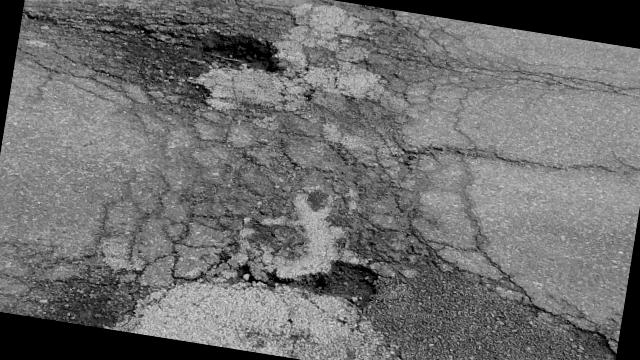Pothole: (8, 0, 298, 147), (0, 212, 211, 342), (267, 222, 438, 334)
